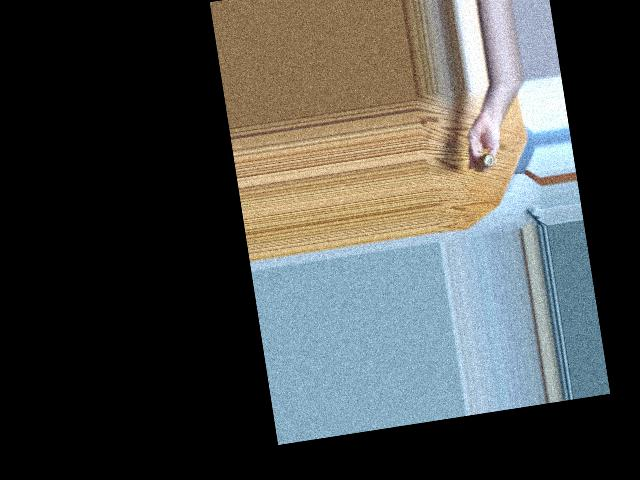sweet_potato: (470, 146, 501, 176)
